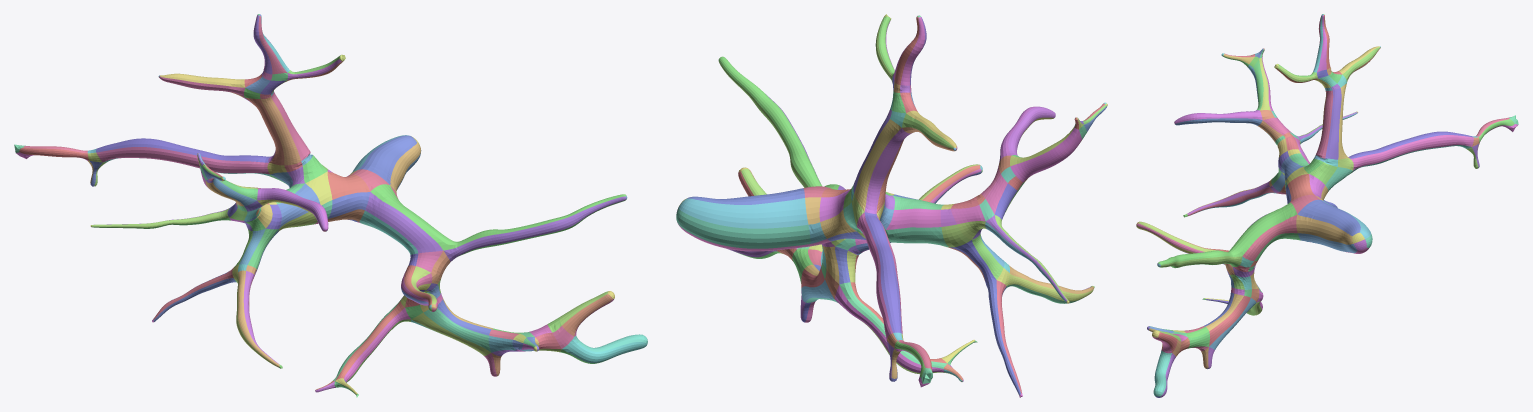
The model's file is 12_vessel_output.obj.
3 renders of one model, left to right at view 1: azimuth 30°, elevation 25°; view 2: azimuth 150°, elevation 25°; view 3: azimuth 270°, elevation 25°, orthographic. The views are drawn at different scales.
Size of the model in its own units: 58.21 by 44.8 by 53.88.
